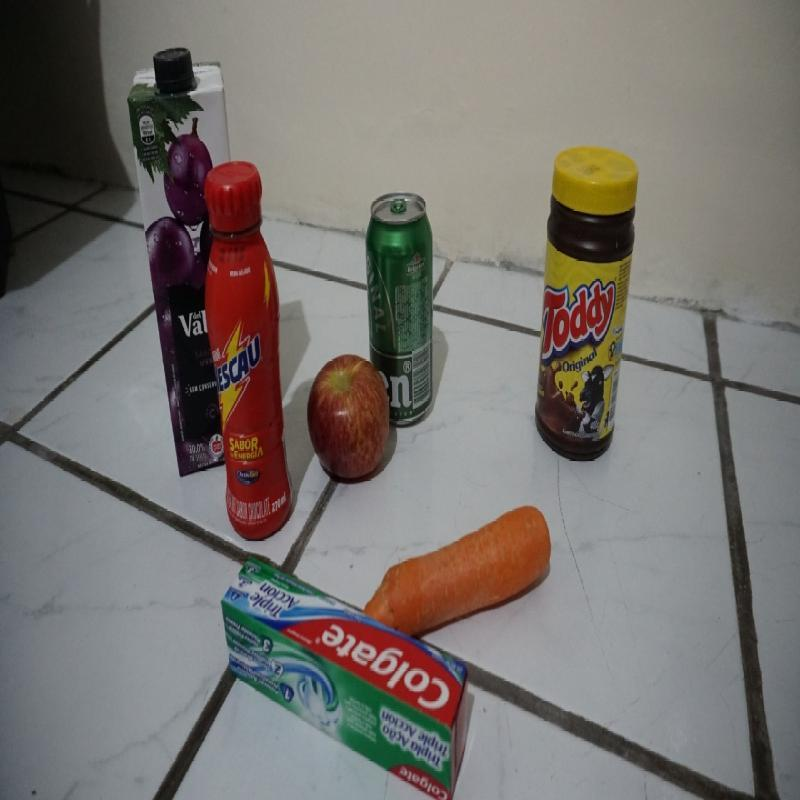Apple: (307, 354, 392, 480)
Beer can: (367, 191, 435, 433)
Carrot: (363, 506, 552, 634)
Chocolate Milk: (198, 161, 294, 539)
Chocolate Powder: (533, 145, 640, 464)
Toothpaste: (219, 550, 474, 800)
